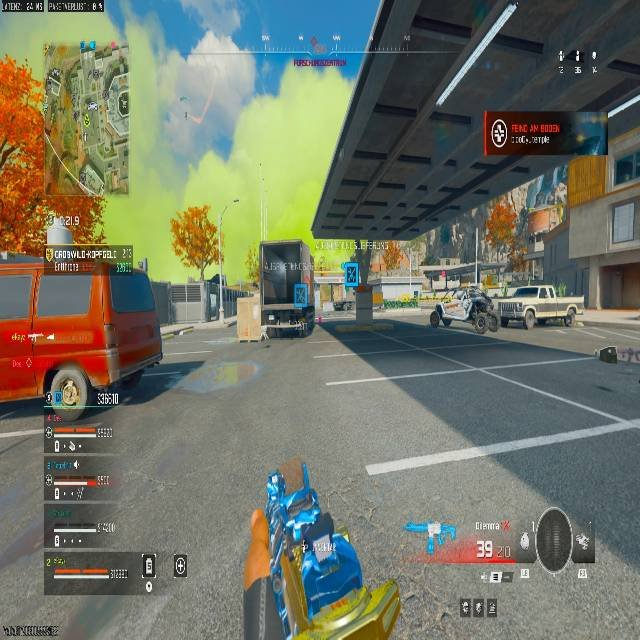player: (465, 289, 498, 333), (429, 305, 445, 329)
